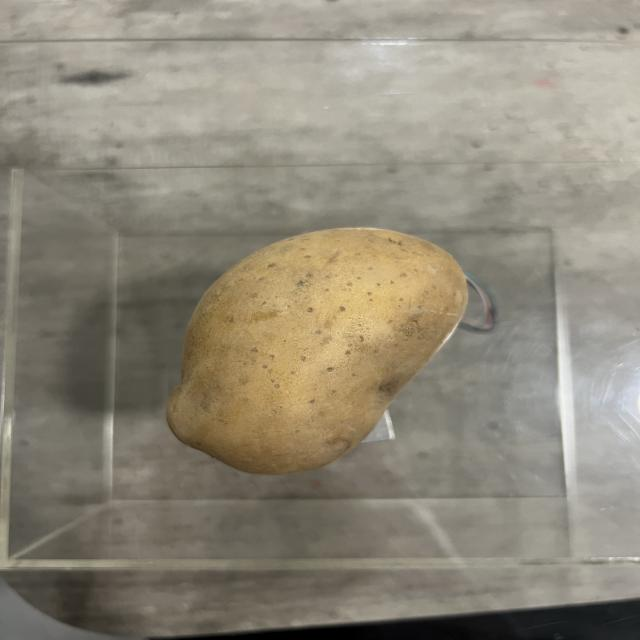potato: (158, 227, 472, 463)
